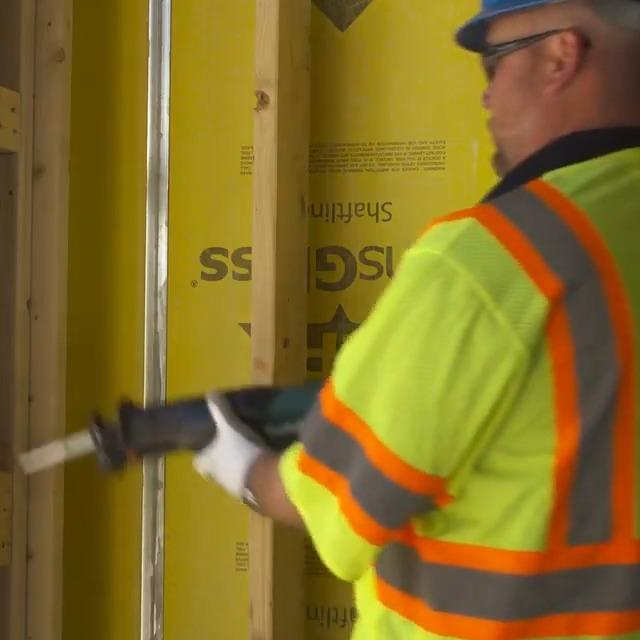Gloves: (192, 392, 269, 501)
Hardhat: (453, 0, 640, 49)
NO-Mask: (489, 74, 570, 172)
Person: (191, 0, 640, 640)
Safety Vest: (291, 157, 640, 640)
